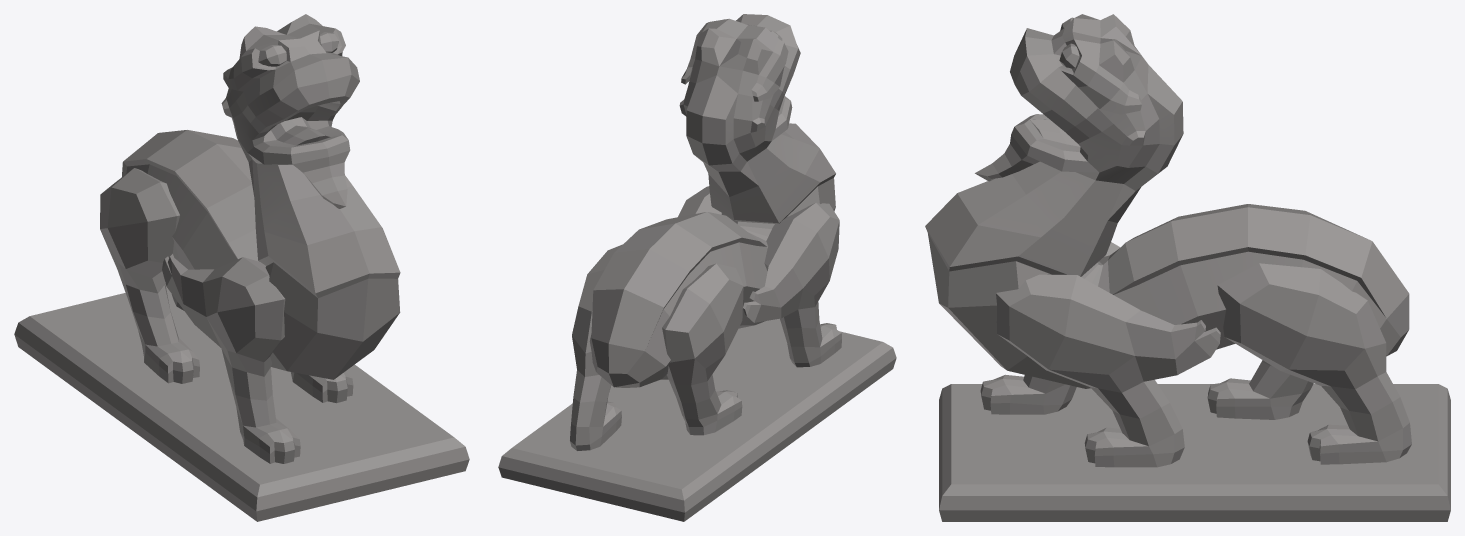
The model's file is SM_Sculpture_12.fbx.
The picture shows the model from 3 angles, left to right: view 1: azimuth 30°, elevation 25°; view 2: azimuth 150°, elevation 25°; view 3: azimuth 270°, elevation 25°; orthographic projection. The views are drawn at different scales.
Visible parts, largest first — view 1: SM_Sculpture_12; view 2: SM_Sculpture_12; view 3: SM_Sculpture_12.
Part boxes in pixels (left/top/right/bottom): SM_Sculpture_12: left=14, top=14, right=469, bottom=521; SM_Sculpture_12: left=498, top=14, right=896, bottom=521; SM_Sculpture_12: left=925, top=14, right=1450, bottom=521.
Size of the model in its own units: 230 by 430 by 465.
